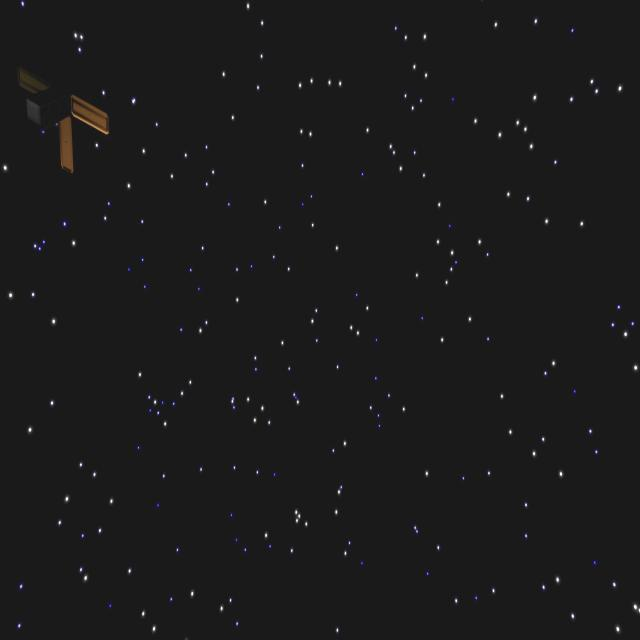medium_debris: (11, 61, 117, 172)
